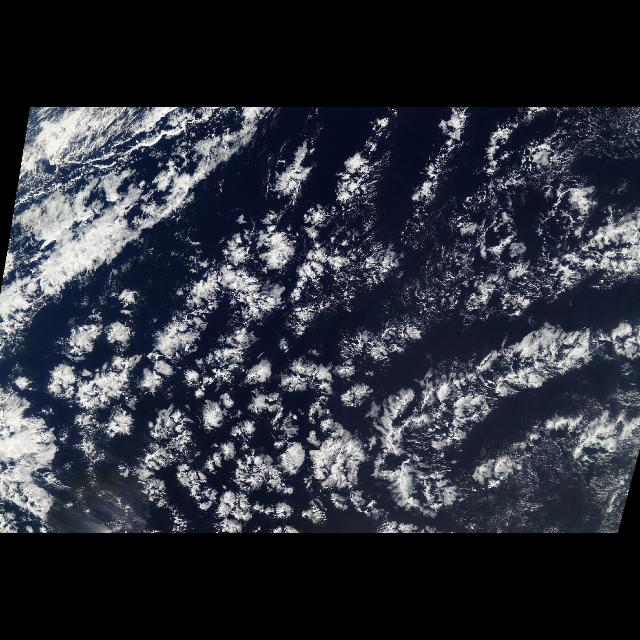Fish: (388, 305, 612, 465)
Flower: (51, 148, 426, 534)
Gravel: (438, 116, 638, 324)
